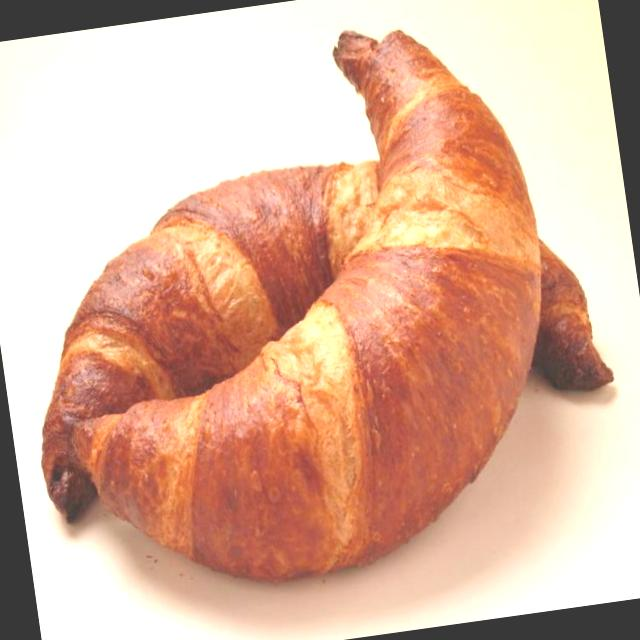Croissant: (9, 0, 599, 618)
